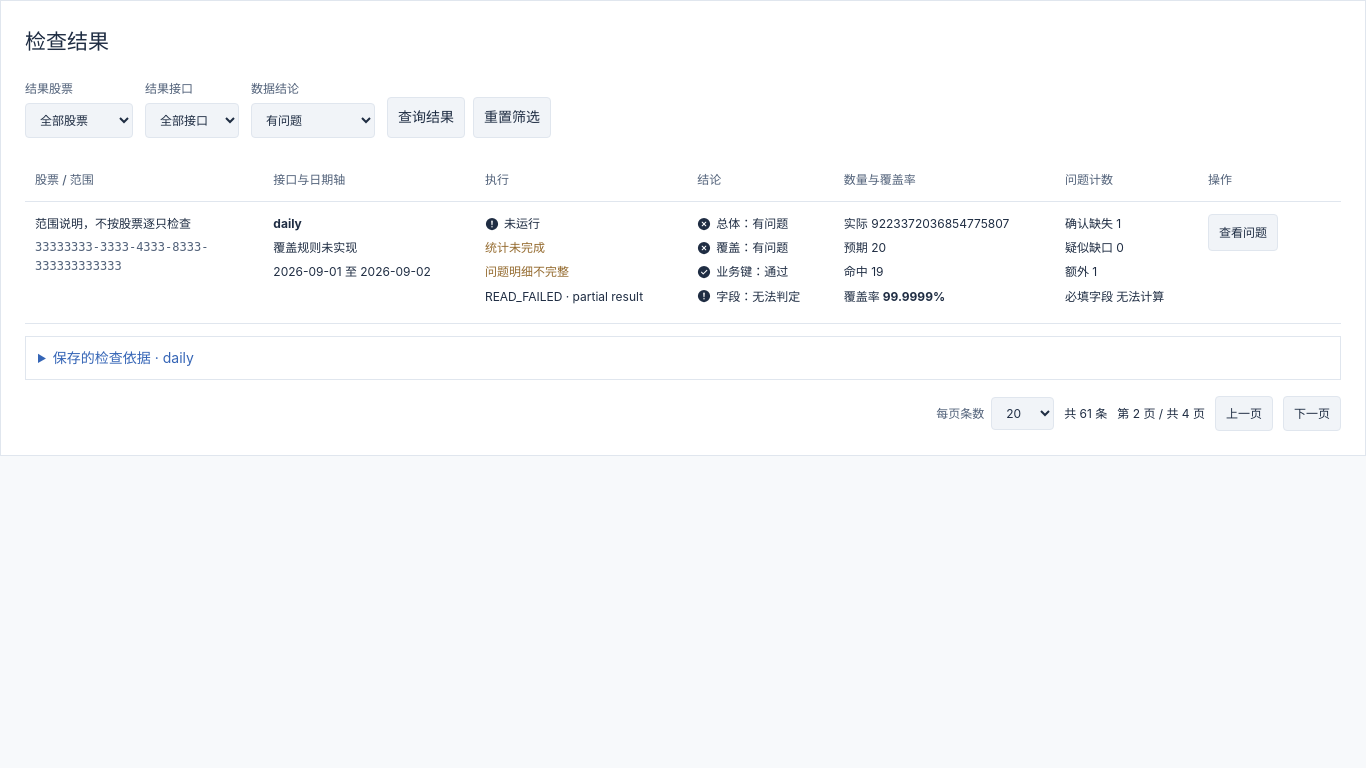
Test: shows non-stock and missing-descriptor explanations plus saved basis
Click the heading "保存的检查依据 · daily".
click(123, 357)  # box x1=53 y1=349 x2=194 y2=366
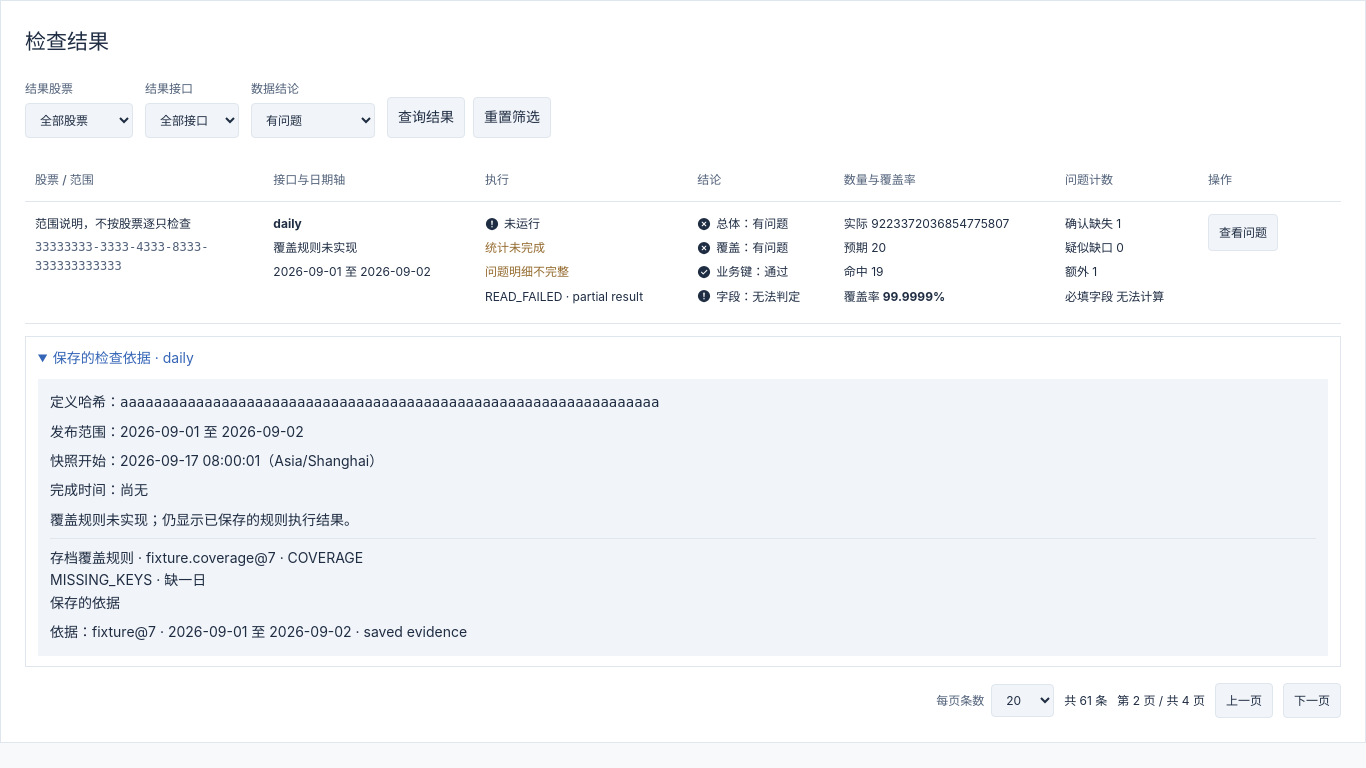
Expected: the text "存档覆盖规则" is shown, x1=50 y1=549 x2=134 y2=566
Expected: the text "saved evidence" is shown, x1=50 y1=623 x2=467 y2=640
